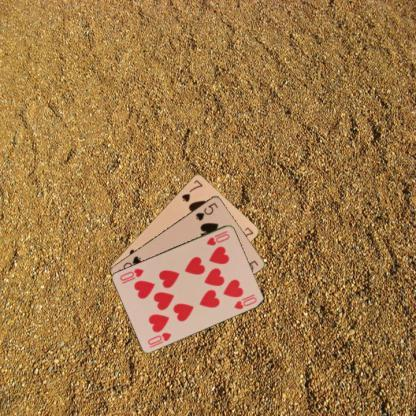10h: (145, 329, 173, 346), (204, 230, 231, 247)
5s: (193, 200, 219, 222)
7s: (179, 177, 204, 203)
